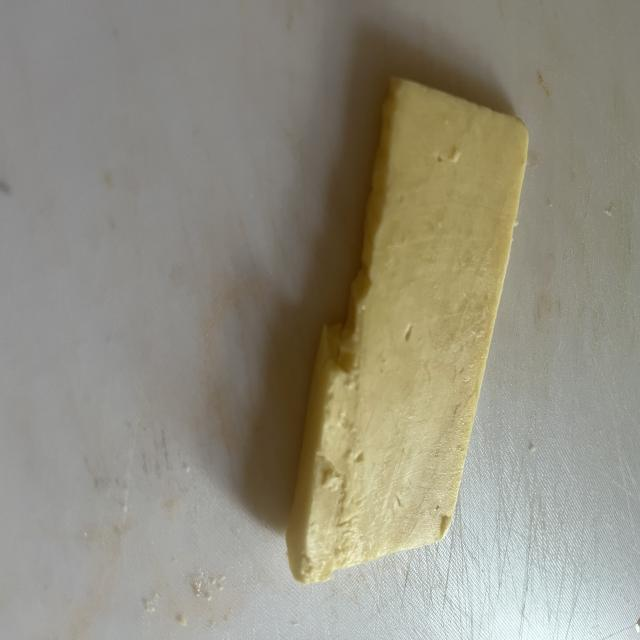cheese: (286, 79, 527, 583)
